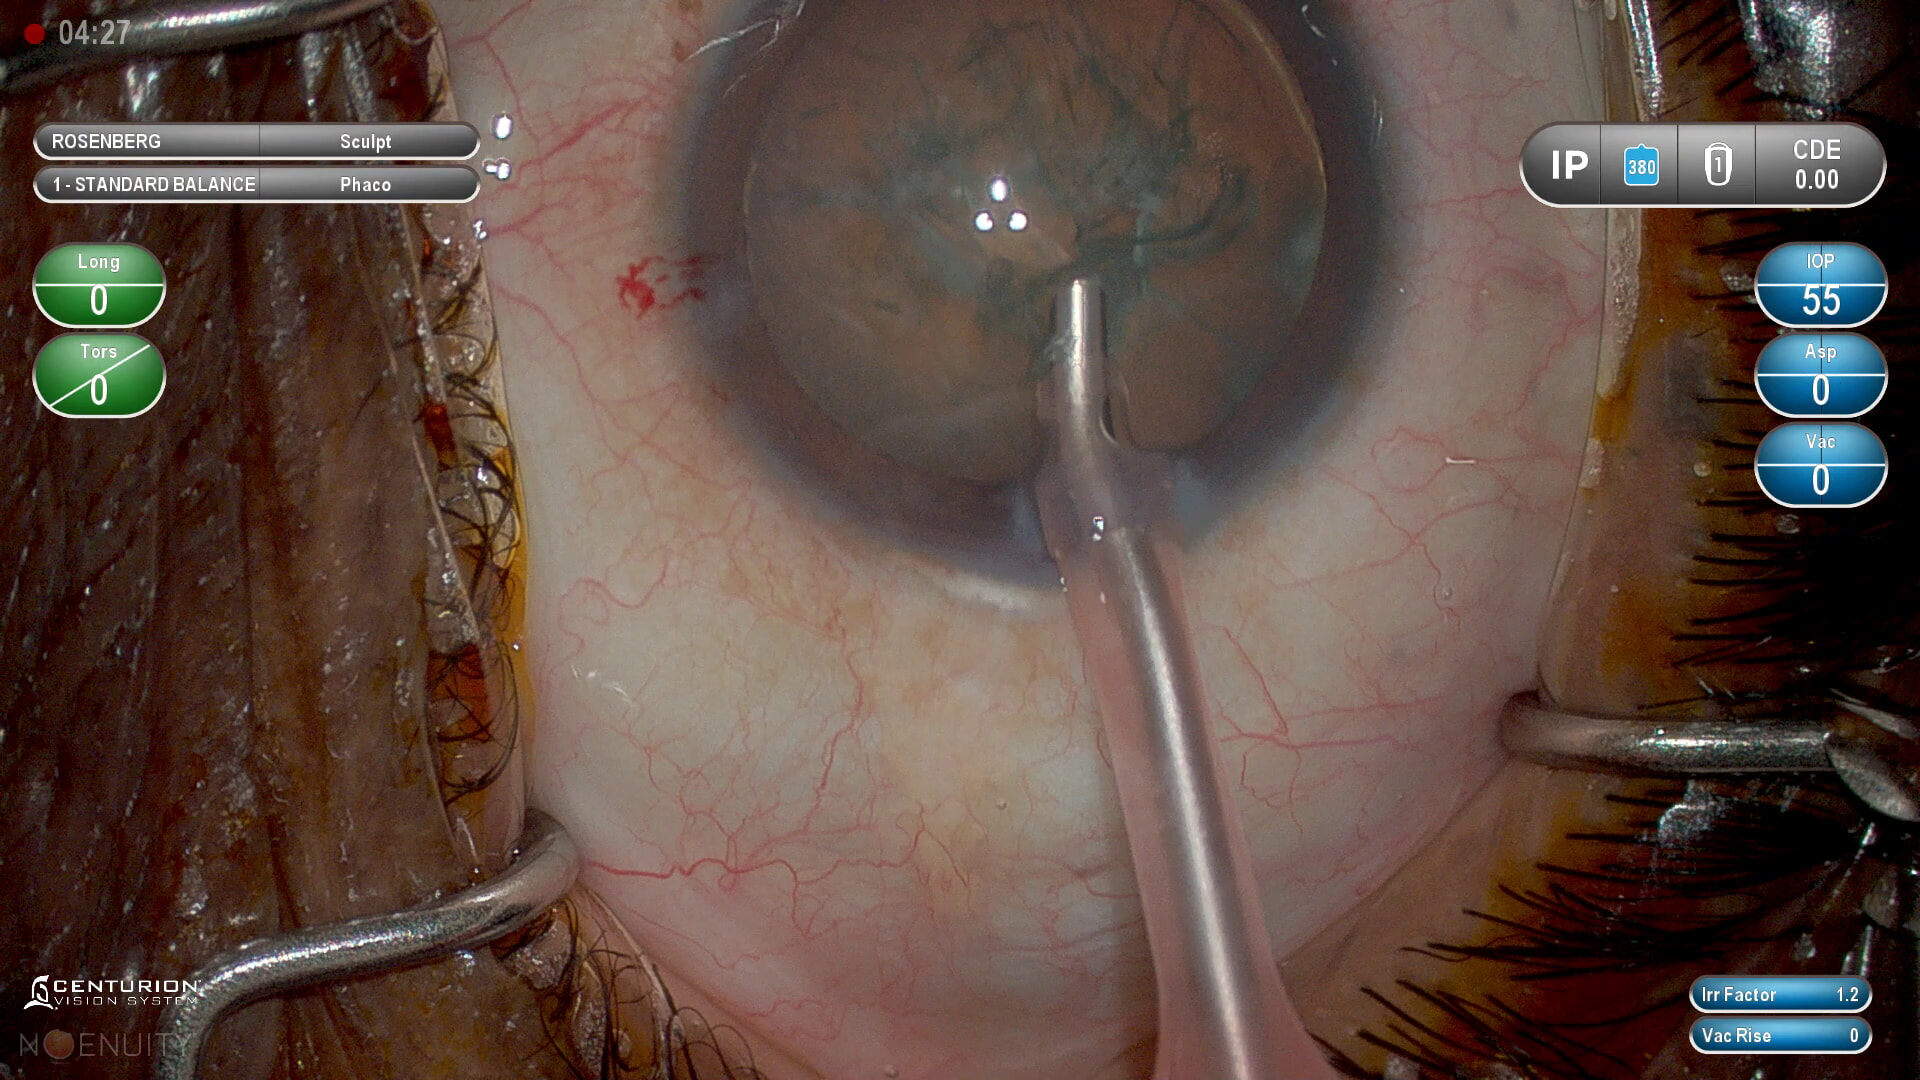iris: (694, 1, 1377, 553)
pupil: (764, 1, 1327, 489)
